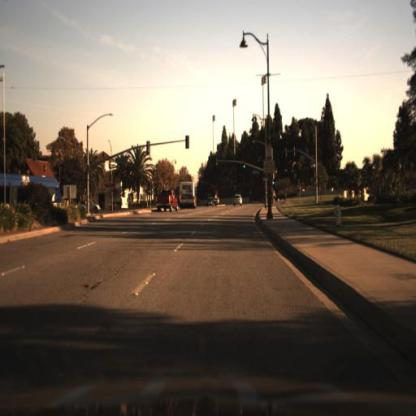car: (156, 189, 181, 218), (179, 178, 201, 208), (232, 192, 247, 207), (233, 193, 244, 211)
pedestrian: (273, 191, 277, 207)
truck: (1, 172, 64, 219), (181, 182, 199, 207)
